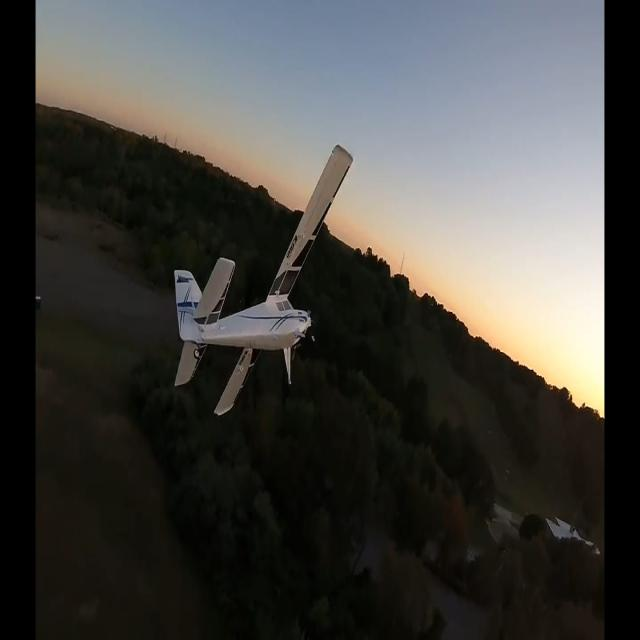iha: (170, 144, 353, 420)
